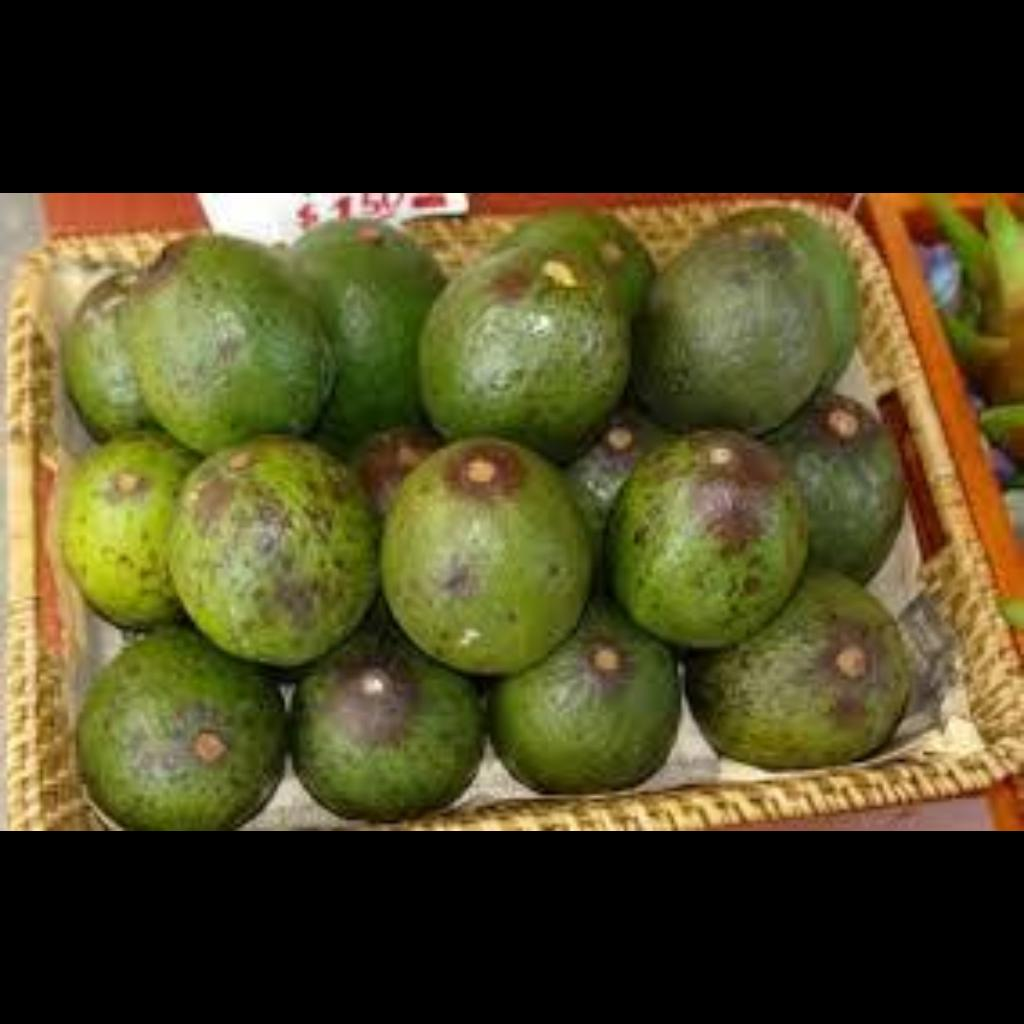Anthracnose: (194, 482, 350, 608), (668, 438, 806, 568)
